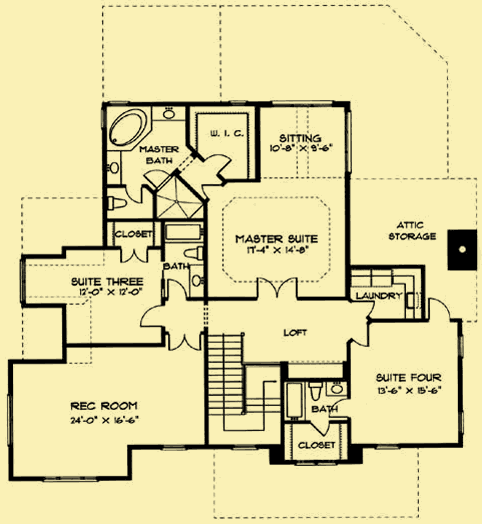door: (254, 273, 301, 303), (136, 303, 163, 330), (116, 242, 150, 263), (201, 151, 232, 174), (165, 332, 202, 351), (427, 295, 452, 322), (140, 167, 168, 190), (163, 277, 188, 302), (353, 320, 372, 351), (122, 186, 148, 208), (353, 300, 377, 321)
large_sink: (104, 191, 127, 216), (183, 242, 206, 260), (306, 381, 323, 402)
small_sink: (105, 149, 122, 187), (189, 261, 203, 297), (327, 380, 350, 396)
stairs: (207, 332, 284, 445)
tub: (105, 106, 153, 152), (160, 219, 206, 243), (281, 379, 306, 422)
